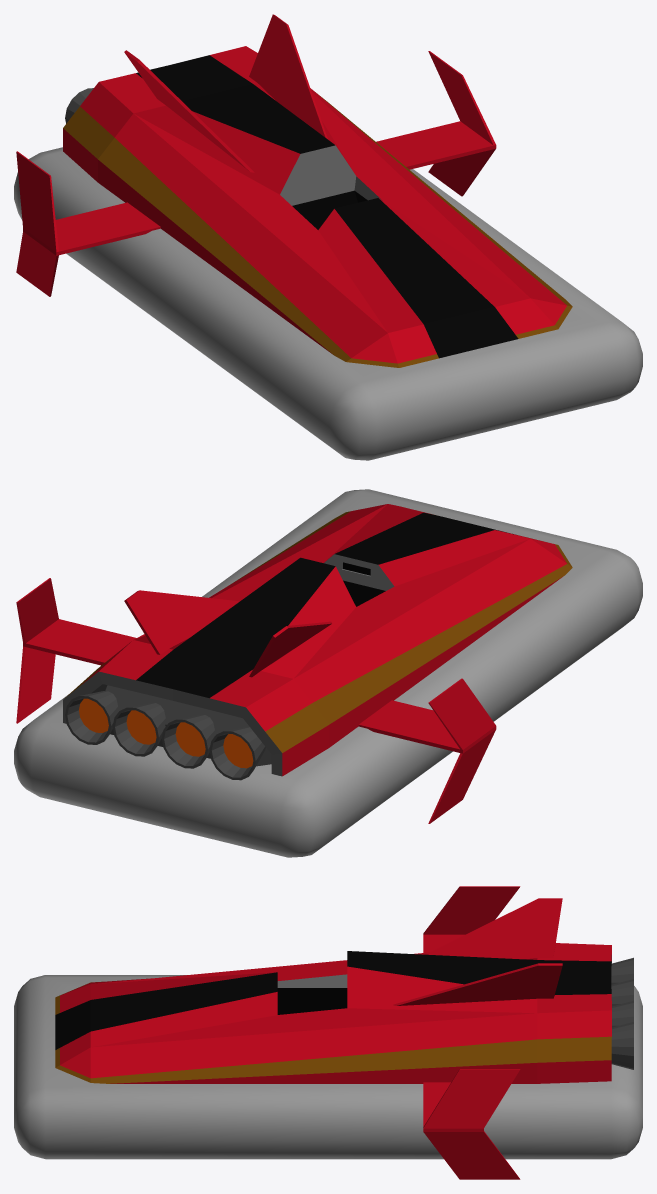
The model's file is RadianSonic.glb.
3 renders of one model, top to bottom at view 1: azimuth 30°, elevation 25°; view 2: azimuth 150°, elevation 25°; view 3: azimuth 270°, elevation 25°, orthographic. The views are drawn at different scales.
Visible parts, largest first — view 1: RadianSonic; view 2: RadianSonic; view 3: RadianSonic.
Part boxes in pixels (x1=…): RadianSonic: x1=14, y1=14, x2=642, y2=460; RadianSonic: x1=14, y1=489, x2=642, y2=857; RadianSonic: x1=14, y1=886, x2=642, y2=1179.
Bounding box in the file's own units: 3.04 × 1.24 × 4.15.
